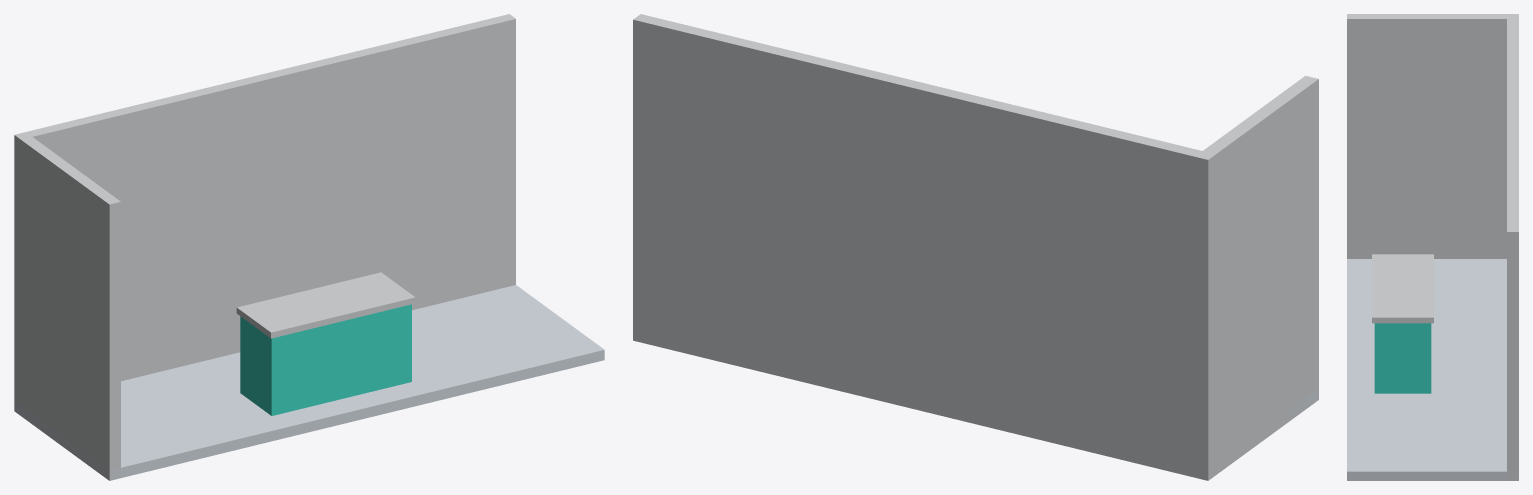
3 views of the same model, side by side, from view 1: azimuth 30°, elevation 25°; view 2: azimuth 150°, elevation 25°; view 3: azimuth 270°, elevation 25° (orthographic). The views are drawn at different scales.
Visible parts, largest first — view 1: Exhibition Booth Concept; view 2: Exhibition Booth Concept; view 3: Exhibition Booth Concept.
Boxes of the visible parts, left/top/right/bottom form: Exhibition Booth Concept: left=14, top=14, right=604, bottom=480; Exhibition Booth Concept: left=633, top=14, right=1318, bottom=480; Exhibition Booth Concept: left=1347, top=14, right=1518, bottom=480.
Size of the model in its own units: 6 by 3.2 by 2.
